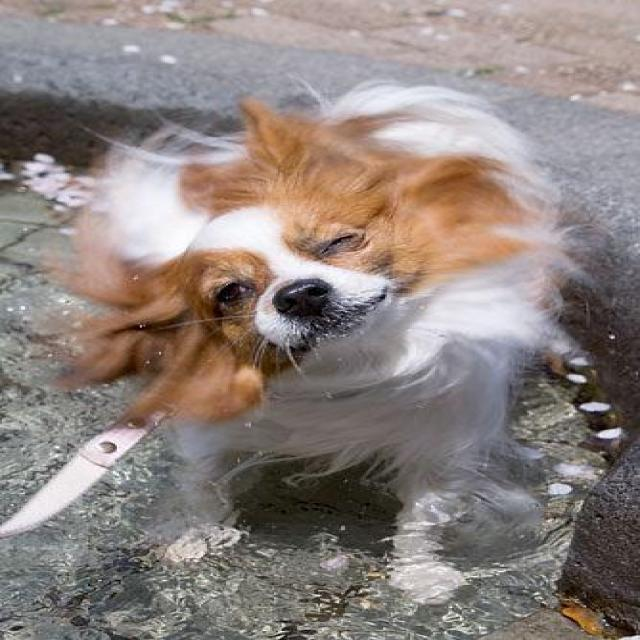papillon: (50, 75, 569, 610)
